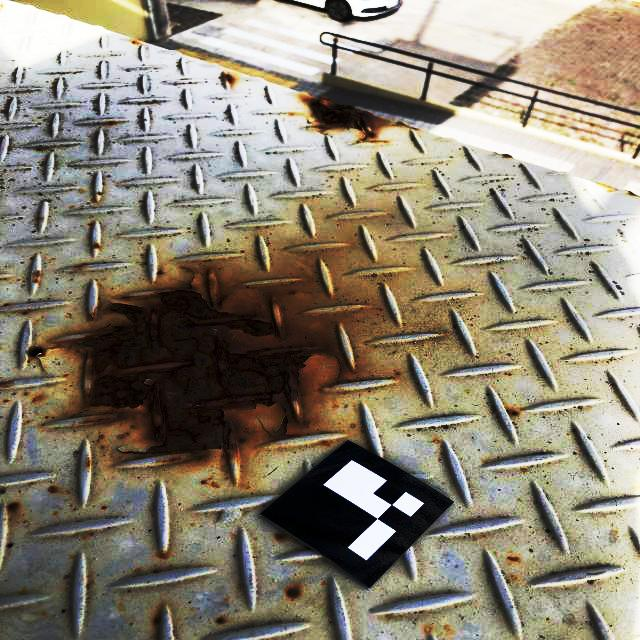Corrosion: (53, 267, 360, 464), (300, 93, 421, 144), (26, 346, 46, 359), (82, 307, 99, 322), (286, 584, 302, 599), (151, 610, 163, 628), (6, 502, 21, 514), (594, 182, 618, 189), (224, 72, 236, 85), (73, 261, 89, 270), (274, 532, 288, 542), (157, 548, 169, 559), (0, 379, 13, 389), (33, 270, 40, 285), (506, 410, 520, 417), (287, 289, 299, 297), (91, 243, 101, 252), (32, 395, 42, 403), (48, 486, 58, 494), (216, 617, 226, 625), (87, 457, 92, 469), (508, 557, 519, 562), (3, 398, 12, 404), (501, 154, 514, 158), (629, 191, 638, 196), (107, 121, 116, 125), (92, 197, 98, 203), (156, 270, 163, 275), (22, 310, 29, 315), (36, 147, 44, 151), (200, 480, 206, 485), (3, 303, 10, 307), (89, 222, 94, 226), (132, 41, 138, 44), (98, 192, 102, 195)
